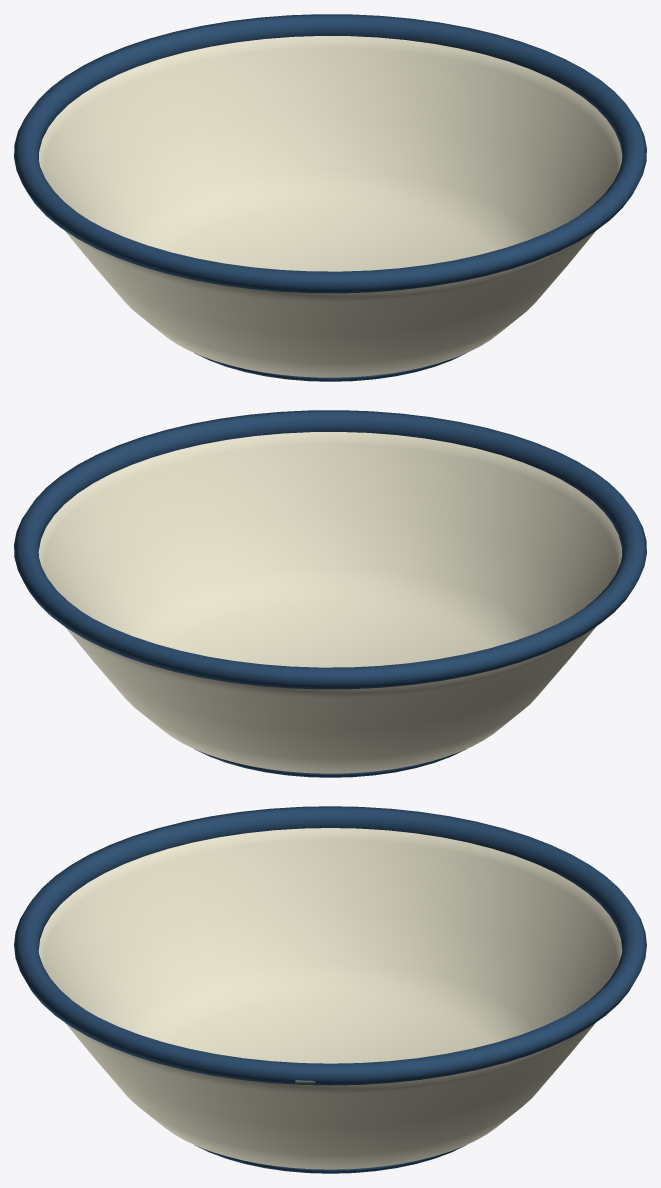
File: HH01_EnamelBasin.fbx
3 renders of one model, top to bottom at view 1: azimuth 30°, elevation 25°; view 2: azimuth 150°, elevation 25°; view 3: azimuth 270°, elevation 25°, orthographic.
Parts seen in each view (by area): view 1: Basin_double_wall, Basin_rolled_blue_rim, Basin_bottom_ring; view 2: Basin_double_wall, Basin_rolled_blue_rim, Basin_bottom_ring; view 3: Basin_double_wall, Basin_rolled_blue_rim, Basin_bottom_ring.
Boxes of the visible parts, x1,y1,x2,y2 form: Basin_double_wall: (39,36,622,377); Basin_rolled_blue_rim: (14,14,646,293); Basin_bottom_ring: (194,353,466,381); Basin_double_wall: (38,432,621,773); Basin_rolled_blue_rim: (14,410,646,689); Basin_bottom_ring: (194,749,466,777); Basin_double_wall: (38,828,622,1169); Basin_rolled_blue_rim: (14,806,646,1085); Basin_bottom_ring: (194,1145,466,1173).
Size of the model in its own units: 0.4 by 0.115 by 0.4.
